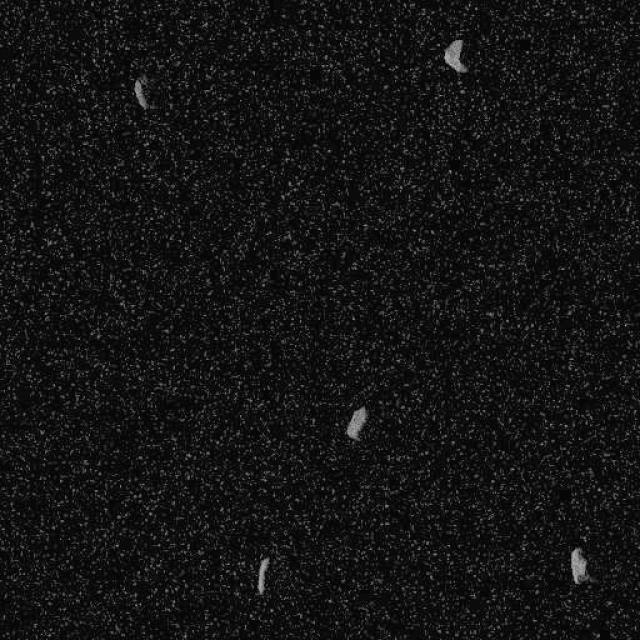D2: (442, 38, 468, 74), (343, 404, 368, 441), (569, 546, 590, 584), (255, 555, 269, 595), (132, 76, 148, 110)
